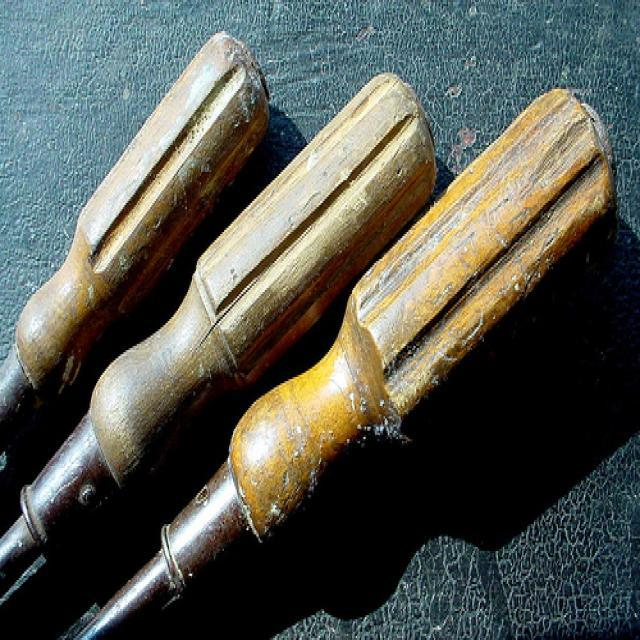screwdriver: (74, 81, 608, 640), (29, 66, 422, 584), (0, 4, 285, 455)
